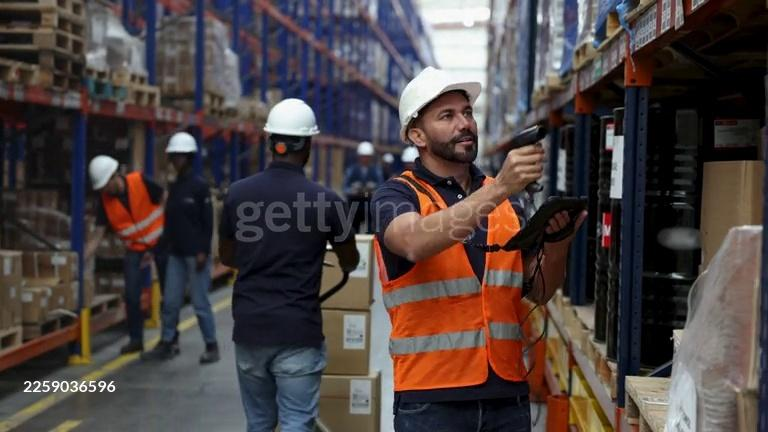helmet: (399, 65, 482, 138), (262, 98, 320, 138), (89, 155, 118, 190), (165, 132, 198, 153), (401, 146, 417, 163), (357, 141, 374, 156)
person: (370, 66, 588, 432), (217, 99, 360, 432), (142, 132, 220, 365), (86, 156, 166, 358), (343, 142, 384, 198), (390, 146, 418, 181)
